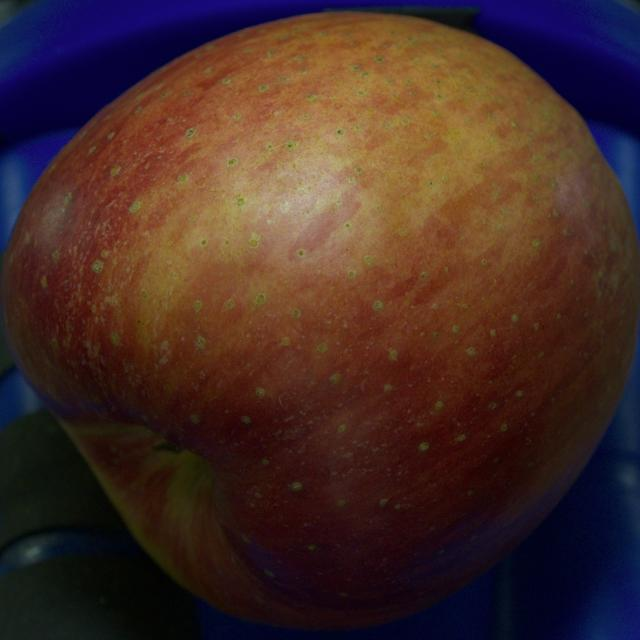apple: (0, 13, 639, 628)
